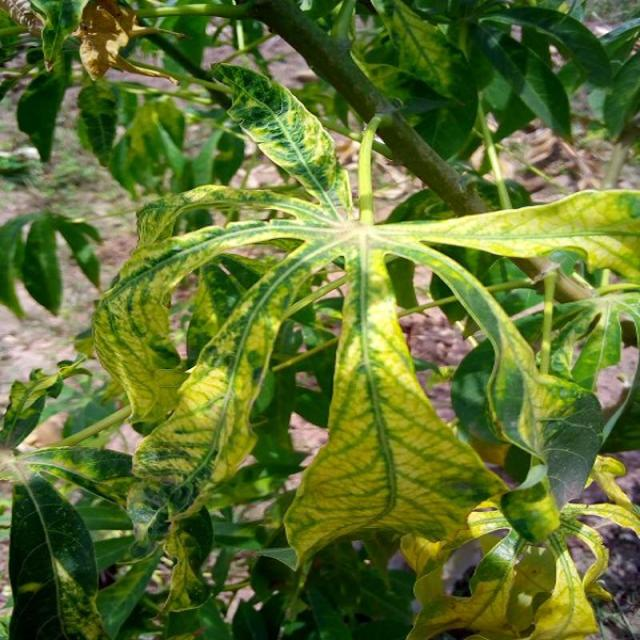cassava leaf: (90, 59, 638, 574), (282, 239, 509, 570)
